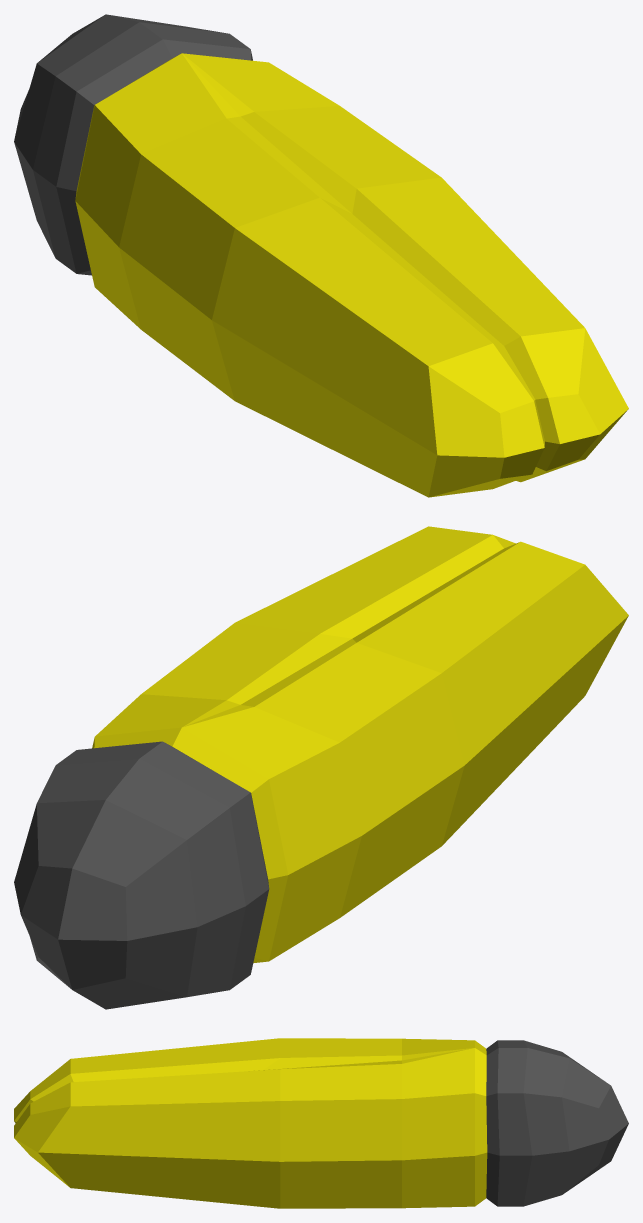
Rendered from Glowbug.fbx.
The picture shows the model from 3 angles, top to bottom: view 1: azimuth 30°, elevation 25°; view 2: azimuth 150°, elevation 25°; view 3: azimuth 270°, elevation 25°; orthographic projection. The views are drawn at different scales.
Parts seen in each view (by area): view 1: Glowbug; view 2: Glowbug; view 3: Glowbug.
Part boxes in pixels (x1,y1,x2,y2): Glowbug: [14, 14, 628, 497]; Glowbug: [14, 526, 628, 1009]; Glowbug: [14, 1038, 628, 1208].
Bounding box in the file's own units: 261 × 240 × 884.
